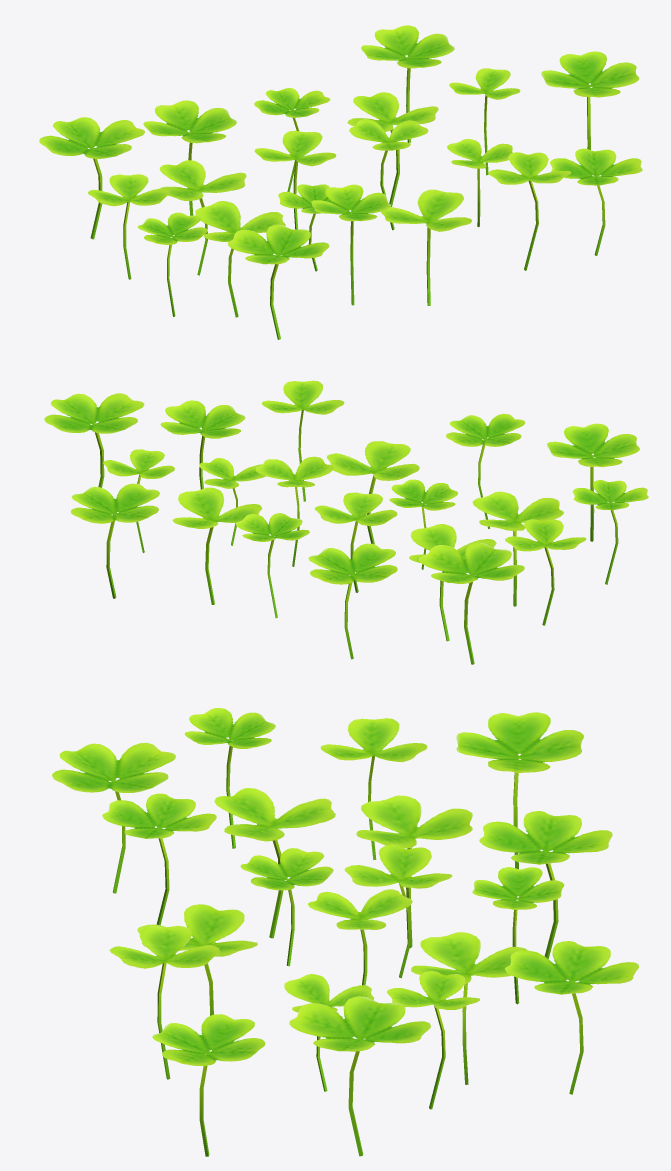
File: clover_group.fbx
The picture shows the model from 3 angles, top to bottom: view 1: azimuth 30°, elevation 25°; view 2: azimuth 150°, elevation 25°; view 3: azimuth 270°, elevation 25°; orthographic projection. The views are drawn at different scales.
Visible parts, largest first — view 1: clover_group; view 2: clover_group; view 3: clover_group.
Part boxes in pixels (box(x1,y1,x2,y2)): clover_group: box(39, 25, 642, 339); clover_group: box(44, 380, 648, 664); clover_group: box(52, 708, 638, 1156).
Size of the model in its own units: 228 by 53.05 by 167.
